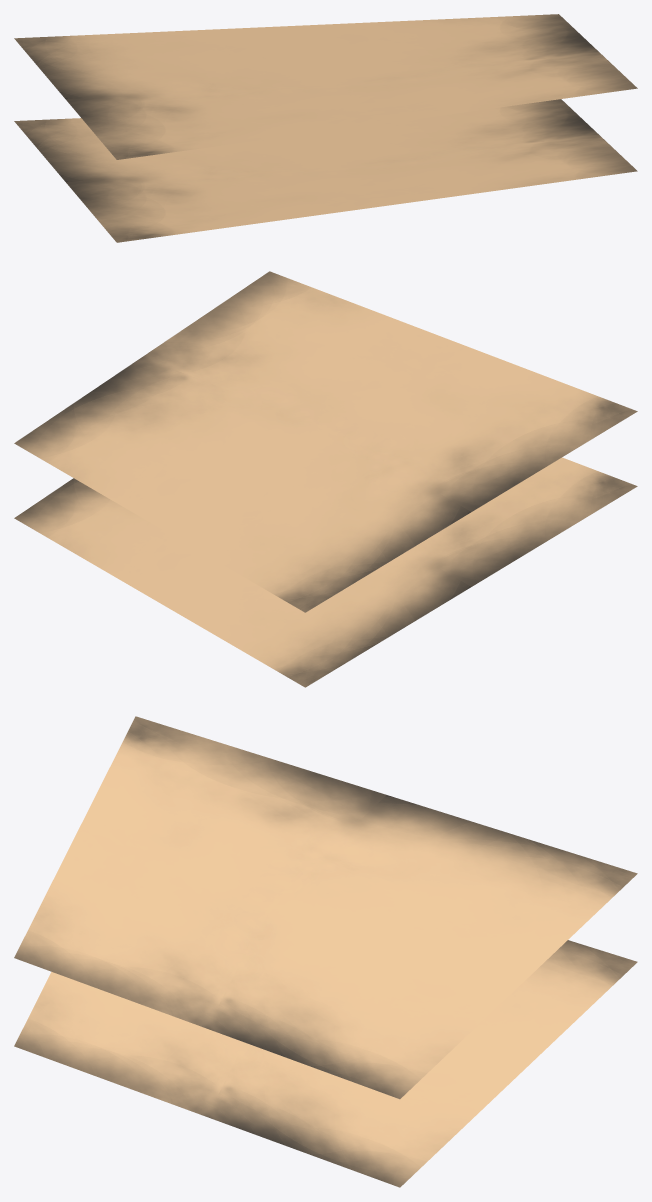
Rendered from CourseSummer_CurveFloor_1_2.fbx.
The picture shows the model from 3 angles, top to bottom: view 1: azimuth 30°, elevation 25°; view 2: azimuth 150°, elevation 25°; view 3: azimuth 270°, elevation 25°; orthographic projection. The views are drawn at different scales.
Parts seen in each view (by area): view 1: polySurface334; view 2: polySurface334; view 3: polySurface334.
Part boxes in pixels (x1,y1,x2,y2): polySurface334: (14,14,637,242); polySurface334: (14,271,637,687); polySurface334: (14,716,637,1187).
Size of the model in its own units: 7.16 by 2 by 6.4.
1 material, 1 textured.
